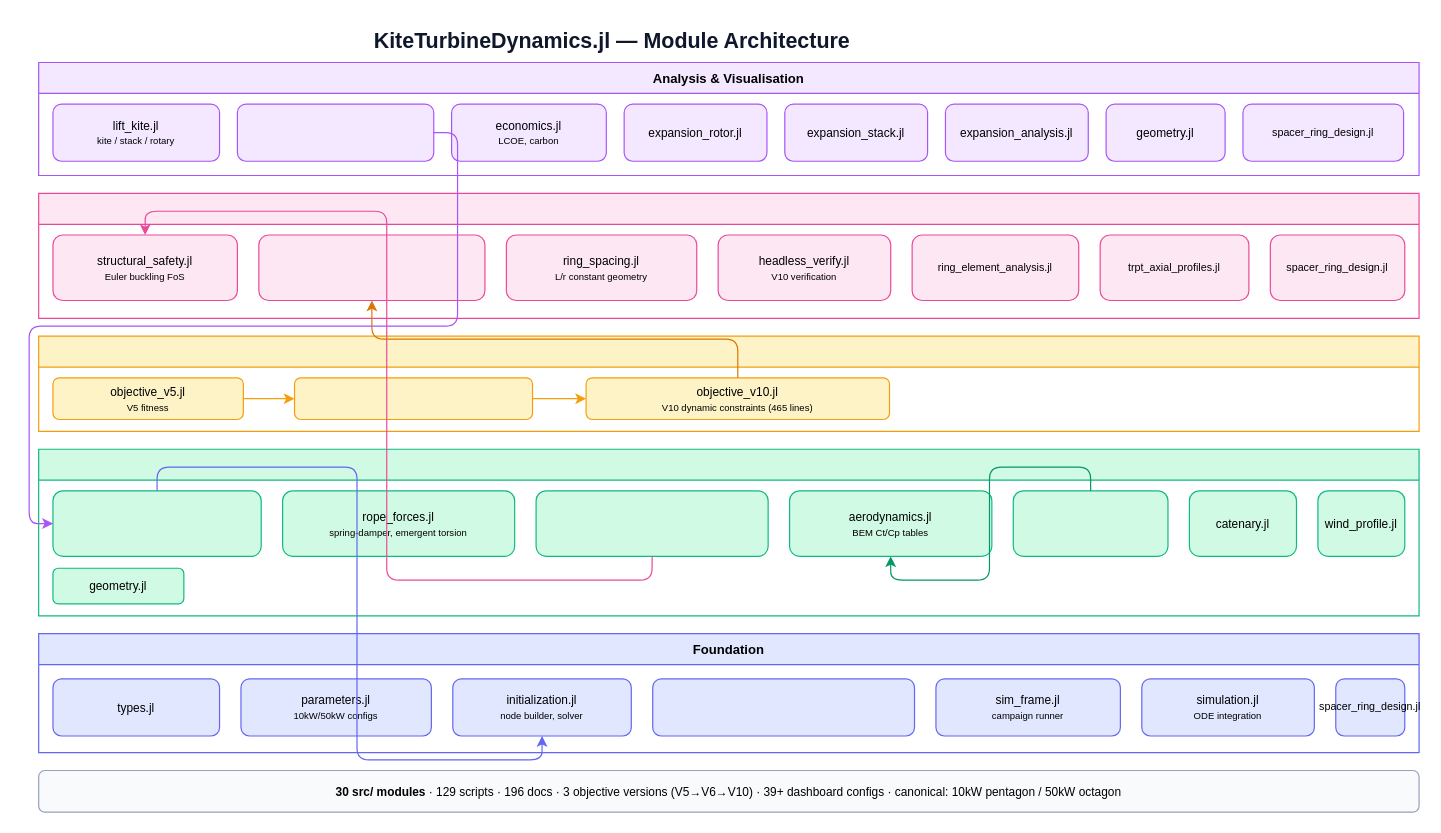
This 1441x833 diagram has some shape labels left out. Here are the shapes that lost their labels. From the top down, the box of each, then its label:
(236, 103, 434, 161): visualization.jl GLMakie 3D, 39+ configs
(258, 234, 485, 300): trpt_optimization.jl DE, 60-island parallel
(37, 192, 1419, 318): Safety & Optimisation
(293, 377, 533, 419): objective_v6.jl V6 fitness (769 lines)
(37, 335, 1419, 431): Objectives (V5 → V6 → V10 evolution)
(52, 490, 261, 556): dynamics.jl 1478-state ODE
(535, 490, 768, 556): ring_forces.jl rotor aero, MPPT, lift coupling
(37, 448, 1419, 616): Dynamics Core
(1012, 490, 1168, 556): bem.jl Cp(n_lines)
(652, 678, 915, 736): KiteTurbineDynamics.jl main module, includes all
